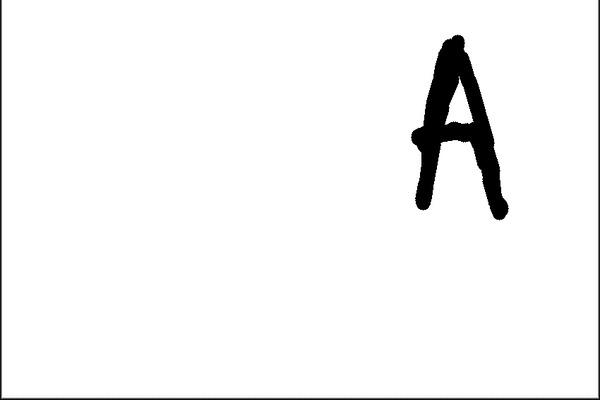A: (396, 24, 511, 223)
